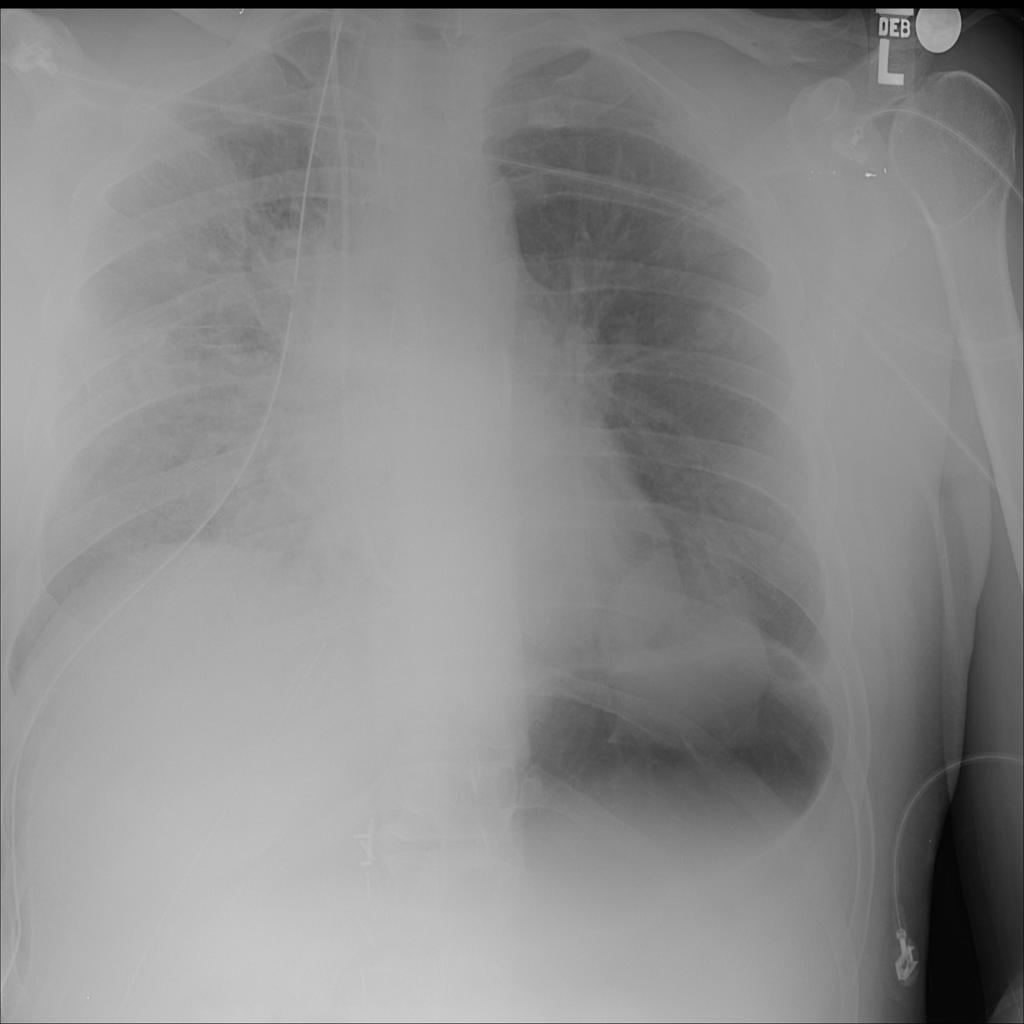nodule: (572, 527, 776, 748), (675, 289, 749, 361)
